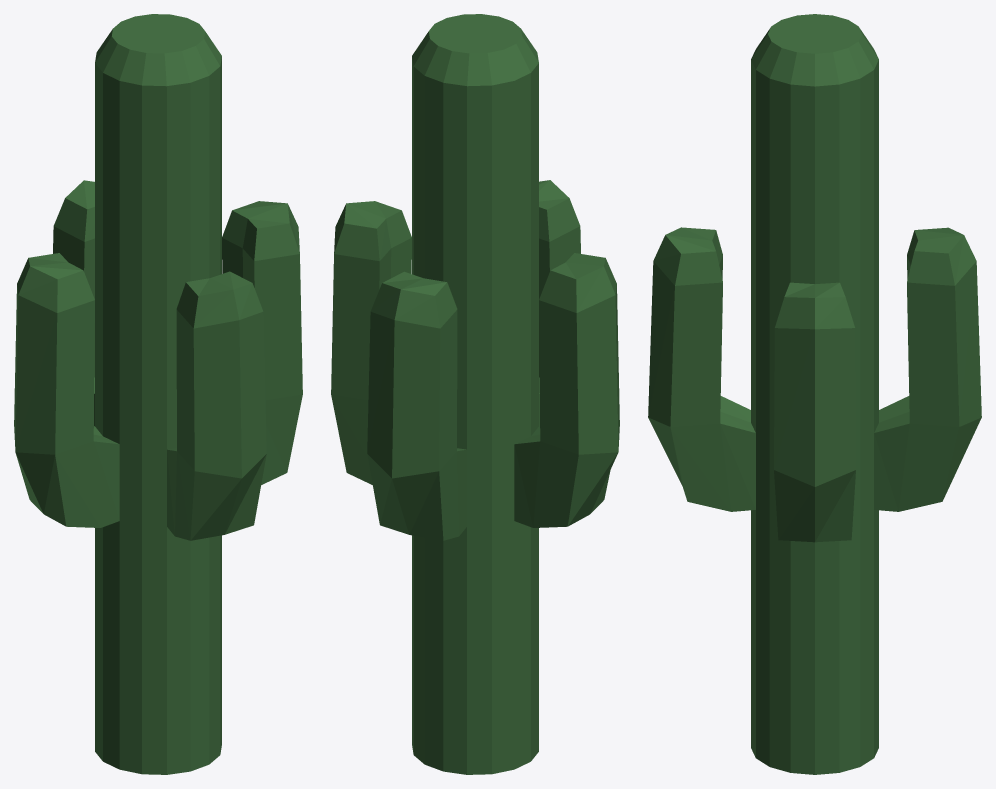
Rendered from D.cactus3.fbx.
3 renders of one model, left to right at view 1: azimuth 30°, elevation 25°; view 2: azimuth 150°, elevation 25°; view 3: azimuth 270°, elevation 25°, orthographic.
Visible parts, largest first — view 1: pasted__pCylinder20; view 2: pasted__pCylinder20; view 3: pasted__pCylinder20.
Part boxes in pixels (left/top/right/bottom): pasted__pCylinder20: left=14, top=14, right=302, bottom=774; pasted__pCylinder20: left=331, top=14, right=619, bottom=774; pasted__pCylinder20: left=648, top=14, right=981, bottom=774.
Bounding box in the file's own units: 1.83 × 4.36 × 1.85.
